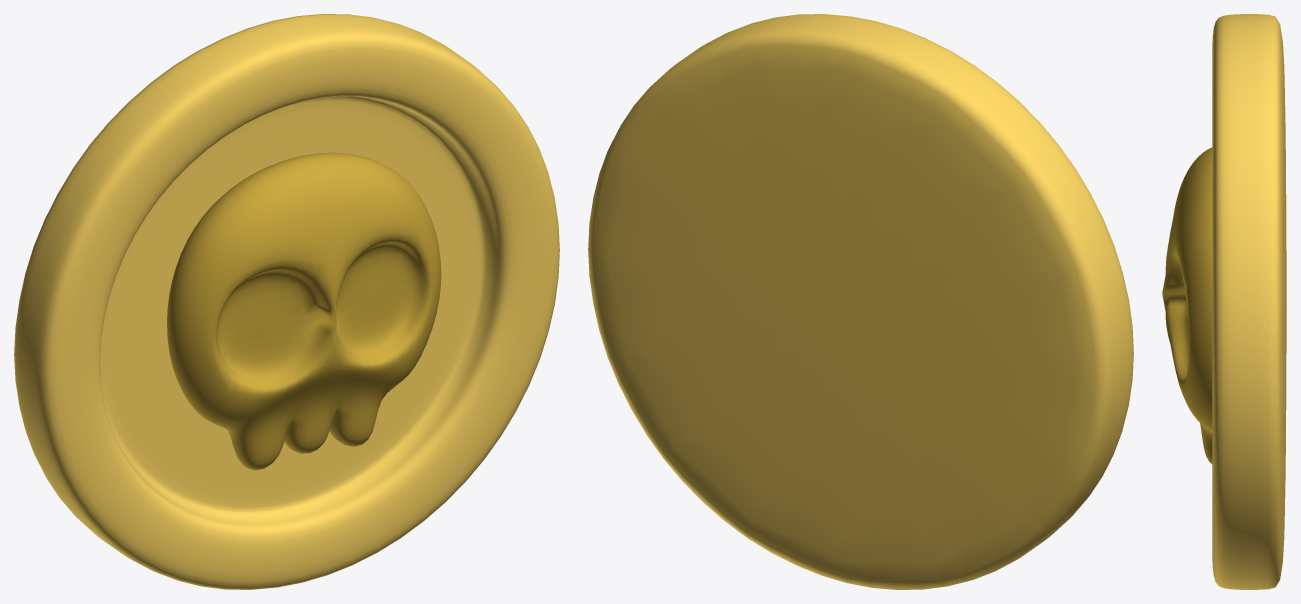
File: CoinSon5.fbx
3 views of the same model, side by side, from view 1: azimuth 30°, elevation 25°; view 2: azimuth 150°, elevation 25°; view 3: azimuth 270°, elevation 25° (orthographic). The views are drawn at different scales.
Visible parts, largest first — view 1: Cylinder.001; view 2: Cylinder.001; view 3: Cylinder.001.
Part boxes in pixels (x1,y1,x2,y2): Cylinder.001: (14, 14, 559, 589); Cylinder.001: (588, 14, 1133, 589); Cylinder.001: (1162, 14, 1286, 589).
Size of the model in its own units: 195 by 195 by 42.09.
